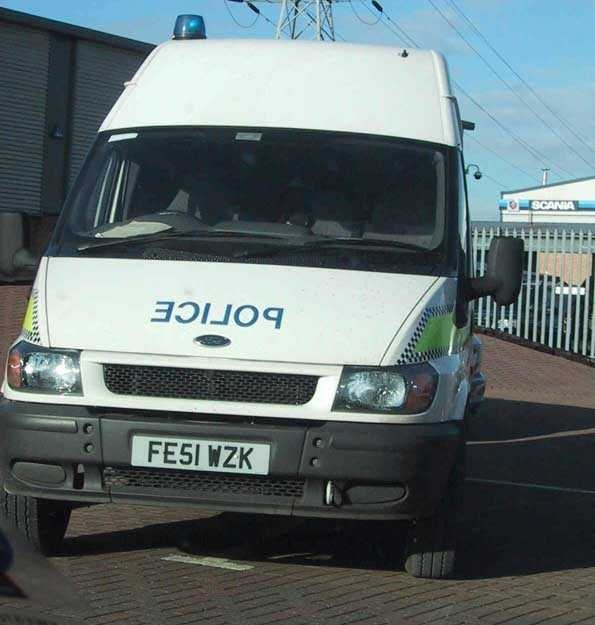Police Van: (0, 20, 491, 625)
